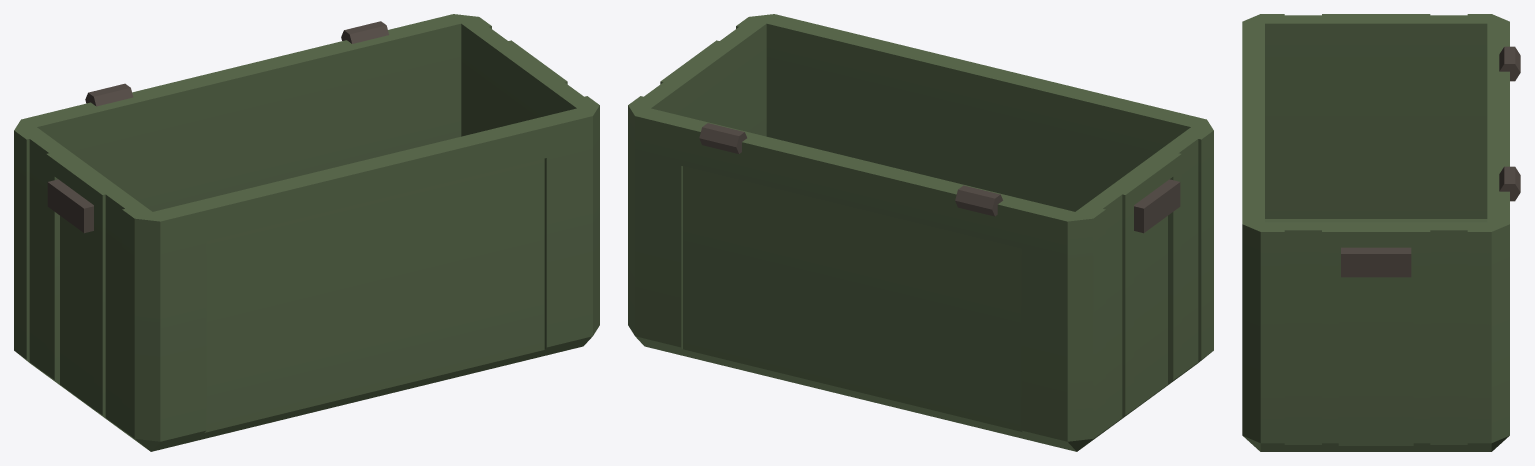
Rendered from BigAmoBox_02.fbx.
3 renders of one model, left to right at view 1: azimuth 30°, elevation 25°; view 2: azimuth 150°, elevation 25°; view 3: azimuth 270°, elevation 25°, orthographic. The views are drawn at different scales.
Visible parts, largest first — view 1: BigAmoBox_02; view 2: BigAmoBox_02; view 3: BigAmoBox_02.
Part boxes in pixels (x1=…): BigAmoBox_02: x1=14, y1=14, x2=599, y2=451; BigAmoBox_02: x1=628, y1=14, x2=1213, y2=451; BigAmoBox_02: x1=1242, y1=14, x2=1520, y2=451.
Size of the model in its own units: 0.978 by 0.4751 by 0.5092.
